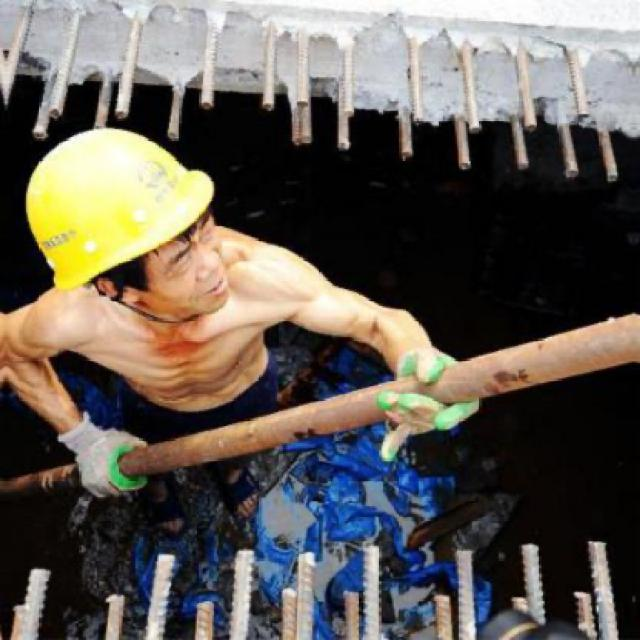helmet: (9, 110, 237, 336)
